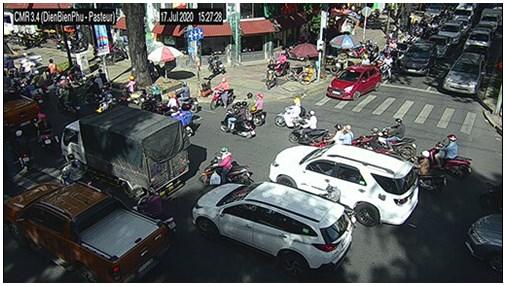xe_ban_tai: (5, 182, 171, 282), (5, 89, 40, 139)
xe_hoi: (191, 181, 352, 279), (268, 145, 419, 226), (465, 213, 503, 272), (327, 63, 382, 101), (444, 52, 487, 97), (401, 41, 436, 77), (465, 25, 492, 53), (428, 35, 453, 57), (439, 22, 463, 44), (477, 14, 499, 33), (455, 17, 470, 32)
xe_may: (132, 185, 179, 235), (428, 133, 474, 181), (197, 147, 249, 189), (414, 150, 451, 193), (379, 119, 417, 158), (220, 101, 257, 140), (288, 110, 329, 145), (275, 96, 314, 129), (315, 123, 354, 148), (241, 90, 267, 126), (210, 77, 236, 112), (354, 127, 386, 155), (60, 154, 87, 187), (34, 112, 55, 152), (13, 130, 33, 171), (174, 80, 198, 113), (121, 74, 145, 105), (57, 84, 79, 115), (179, 103, 197, 137), (94, 86, 117, 111), (262, 58, 277, 91), (276, 51, 291, 79), (380, 54, 394, 80)
xe_tai: (59, 107, 190, 198)
